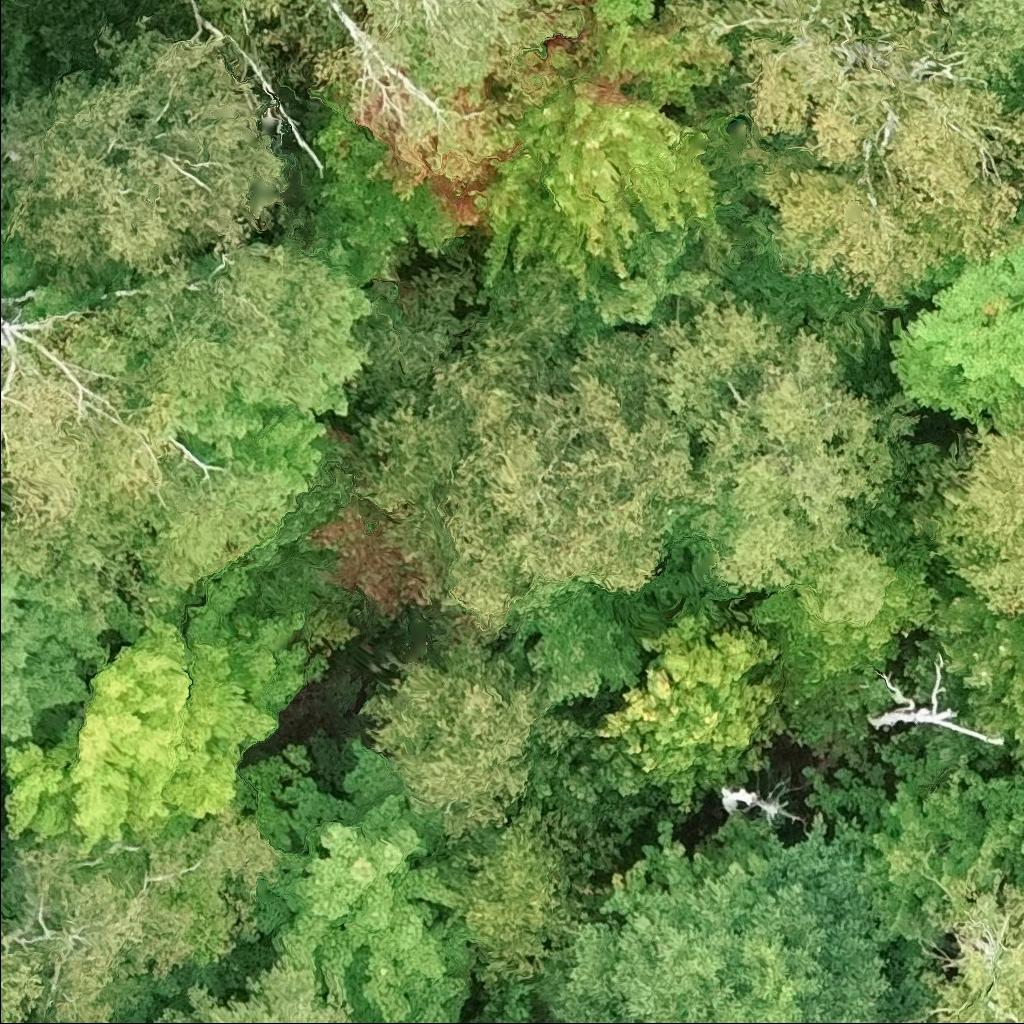crown: (351, 282, 717, 638), (0, 549, 332, 853), (645, 287, 925, 623), (0, 342, 300, 622), (310, 6, 605, 284), (472, 2, 736, 306), (0, 18, 286, 294), (525, 813, 899, 1023), (243, 731, 474, 1023), (159, 0, 591, 147), (24, 235, 373, 411), (0, 809, 282, 1023), (798, 738, 1023, 964), (352, 630, 552, 846), (585, 613, 789, 816), (435, 806, 592, 991), (897, 401, 1023, 616), (0, 561, 120, 775), (887, 245, 1023, 425), (895, 871, 1023, 1023), (908, 593, 1023, 758), (175, 384, 354, 486), (149, 953, 355, 1023), (586, 819, 724, 920), (862, 656, 1006, 747), (935, 0, 1023, 106), (717, 768, 808, 826), (0, 924, 44, 1023), (587, 0, 655, 25), (1006, 809, 1023, 857), (0, 439, 5, 488), (1008, 758, 1023, 773), (1014, 192, 1023, 217), (6, 0, 21, 4), (47, 1021, 51, 1023)
